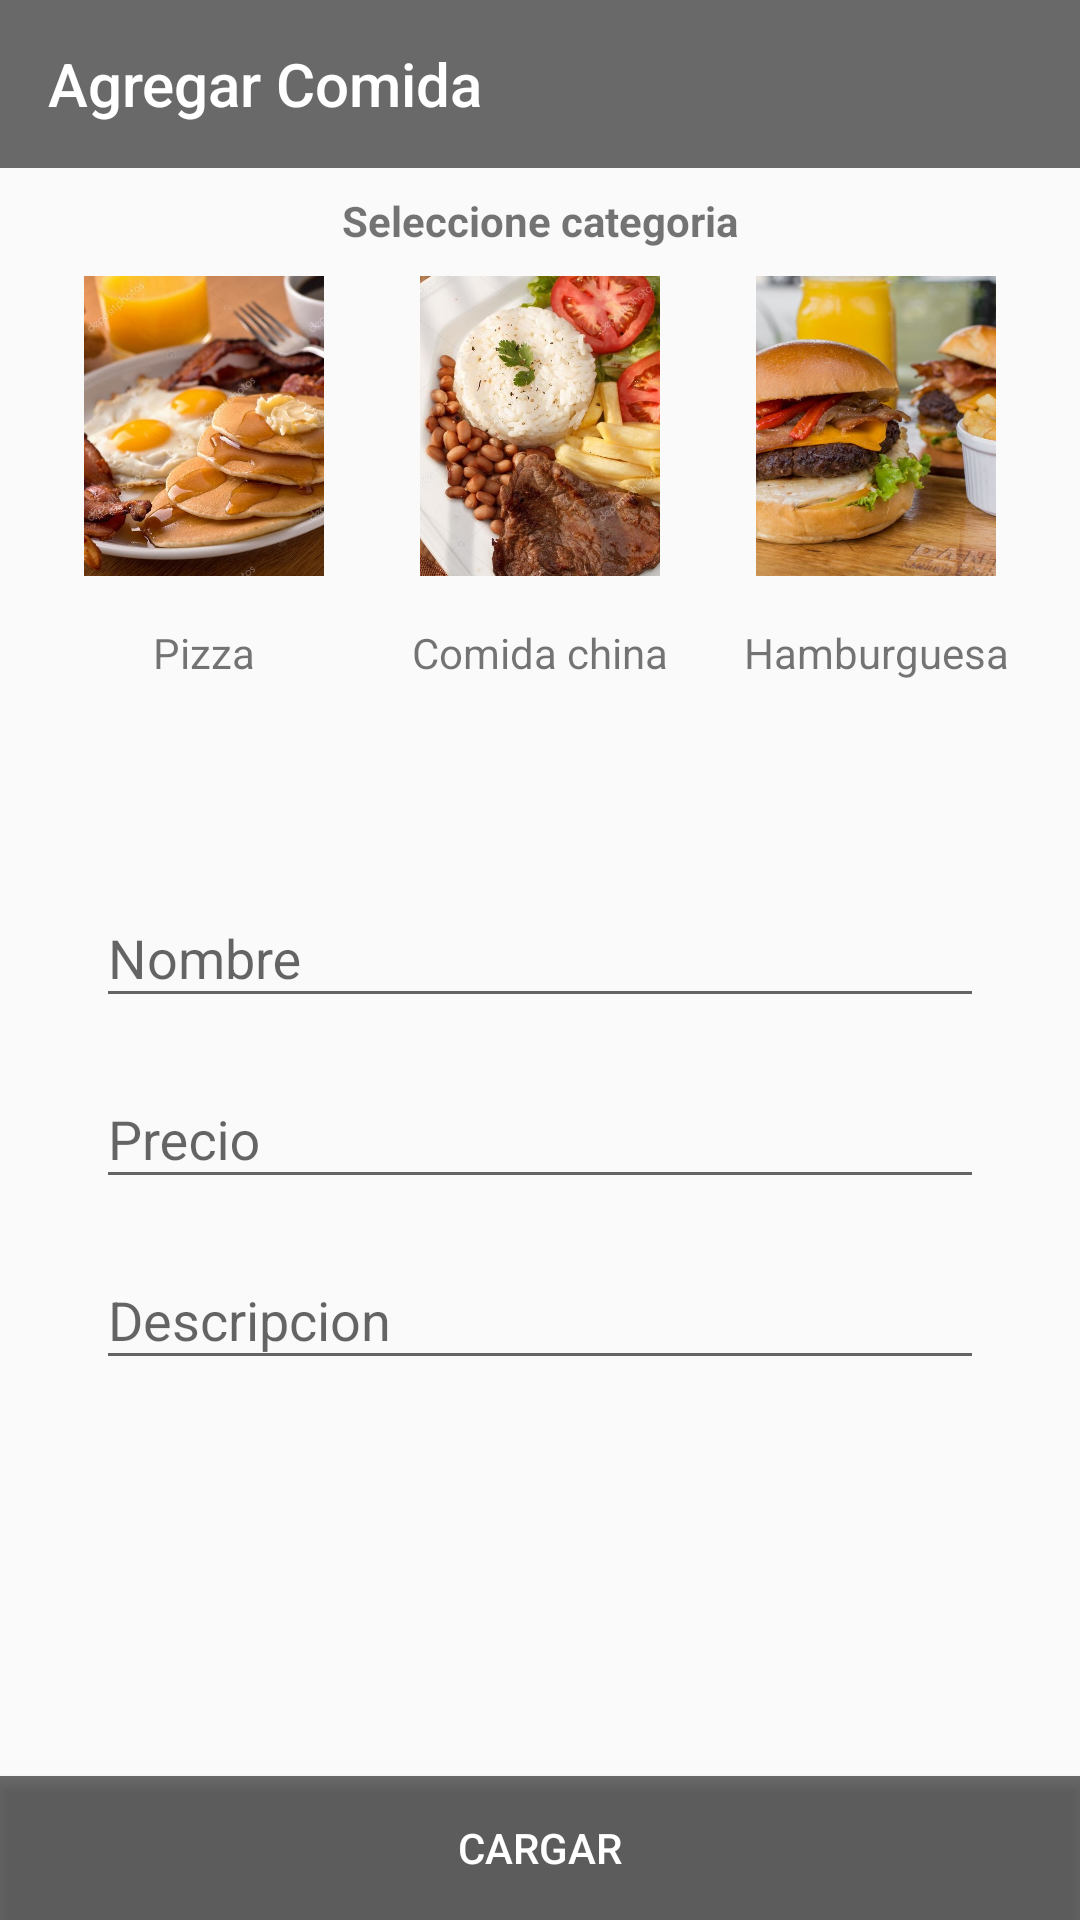

Locate icon controls on the screen. Image size 1080 x 1920, boxes as detection(x1, y1, x2, y2).
almuerzofondo: detection(420, 276, 660, 576)
comidarapida: detection(756, 276, 996, 576)
desayunofondo: detection(84, 276, 324, 576)
